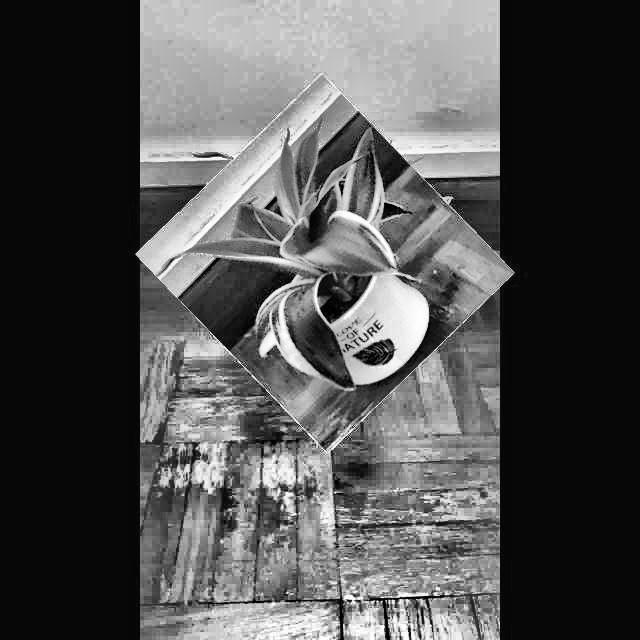plants: (165, 100, 485, 428)
